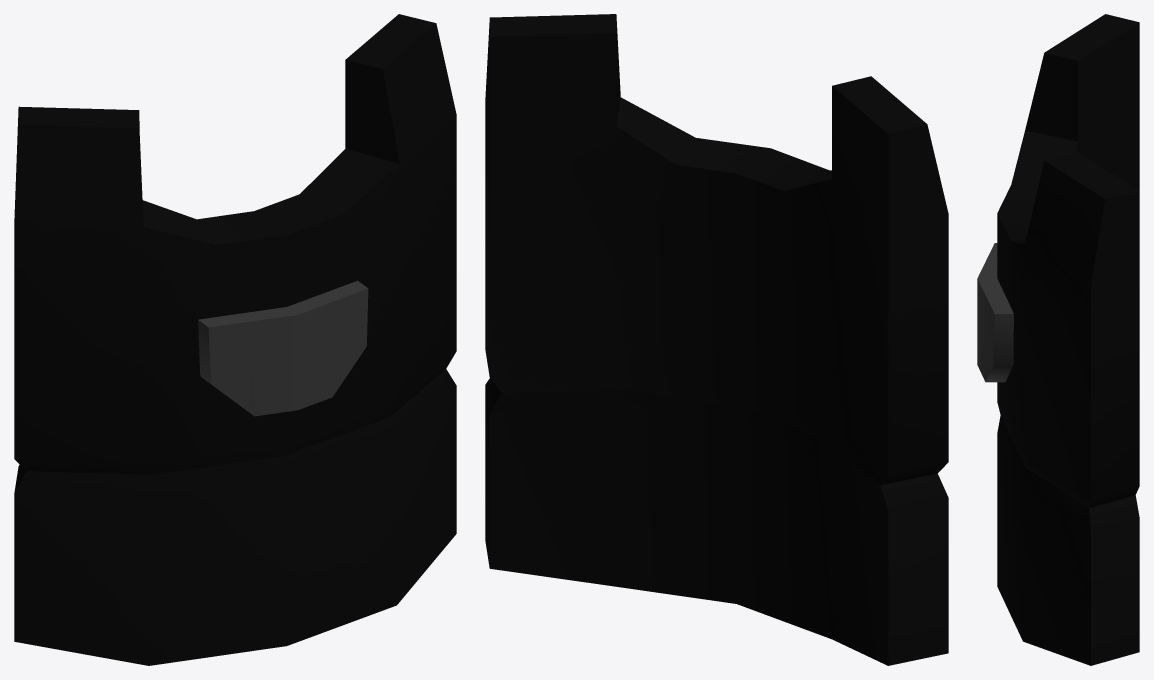
File: Body_Prop_Cooking_Apron_01_C03.fbx
3 renders of one model, left to right at view 1: azimuth 30°, elevation 25°; view 2: azimuth 150°, elevation 25°; view 3: azimuth 270°, elevation 25°, orthographic. The views are drawn at different scales.
Visible parts, largest first — view 1: Body_Prop_Cooking_Apron_01_C03; view 2: Body_Prop_Cooking_Apron_01_C03; view 3: Body_Prop_Cooking_Apron_01_C03.
Part boxes in pixels (bbox=[...]): Body_Prop_Cooking_Apron_01_C03: bbox=[14, 14, 456, 665]; Body_Prop_Cooking_Apron_01_C03: bbox=[485, 14, 948, 665]; Body_Prop_Cooking_Apron_01_C03: bbox=[977, 14, 1139, 665].
Bounding box in the file's own units: 78.47 × 89.58 × 27.44.
